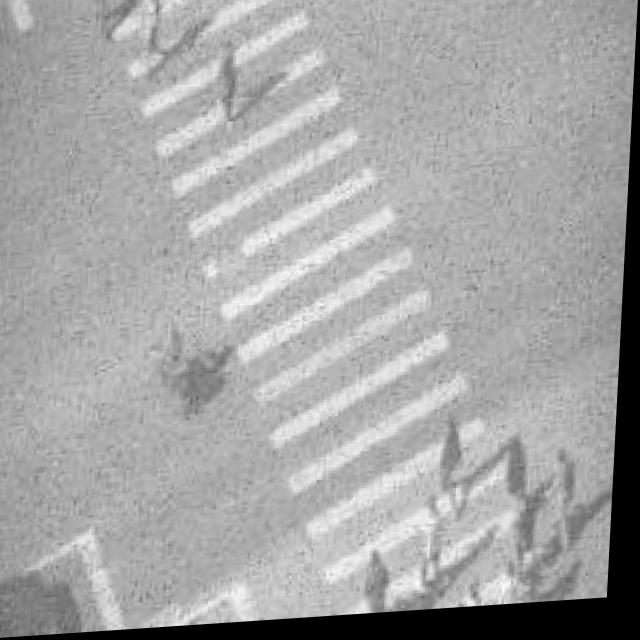zebra: (67, 0, 596, 632)
